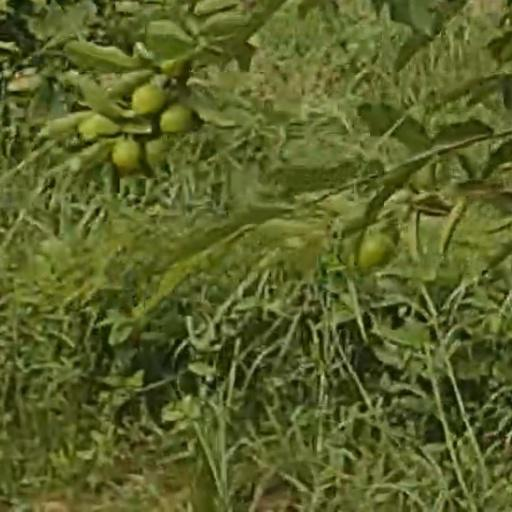acerola_verde: (161, 108, 200, 135), (113, 141, 141, 170), (134, 85, 159, 116)
